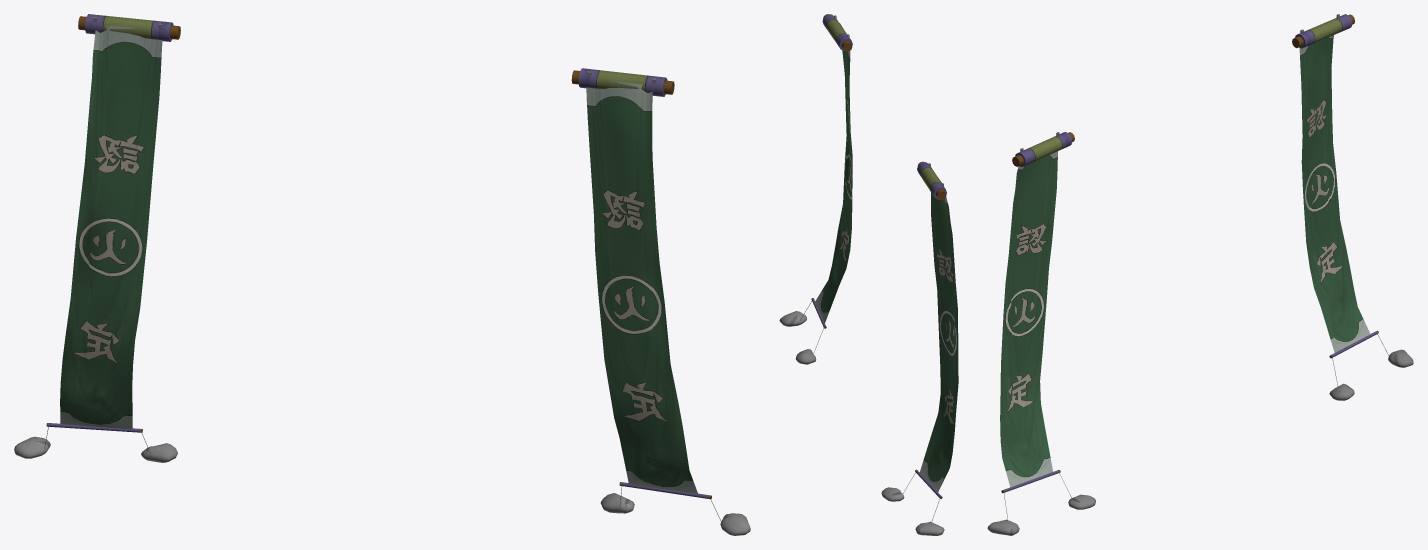
File: SM_ENV_LKNVLD_ShopFlag_A.FBX
The picture shows the model from 3 angles, left to right: view 1: azimuth 30°, elevation 25°; view 2: azimuth 150°, elevation 25°; view 3: azimuth 270°, elevation 25°; orthographic projection. The views are drawn at different scales.
Parts seen in each view (by area): view 1: SM_ENV_LKNVLD_ShopFlag_A; view 2: SM_ENV_LKNVLD_ShopFlag_A; view 3: SM_ENV_LKNVLD_ShopFlag_A.
Part boxes in pixels (x1,y1,x2,y2): SM_ENV_LKNVLD_ShopFlag_A: (14,14,750,535); SM_ENV_LKNVLD_ShopFlag_A: (779,14,958,535); SM_ENV_LKNVLD_ShopFlag_A: (987,14,1413,535).
Bounding box in the file's own units: 1824 × 1674 × 1804.
